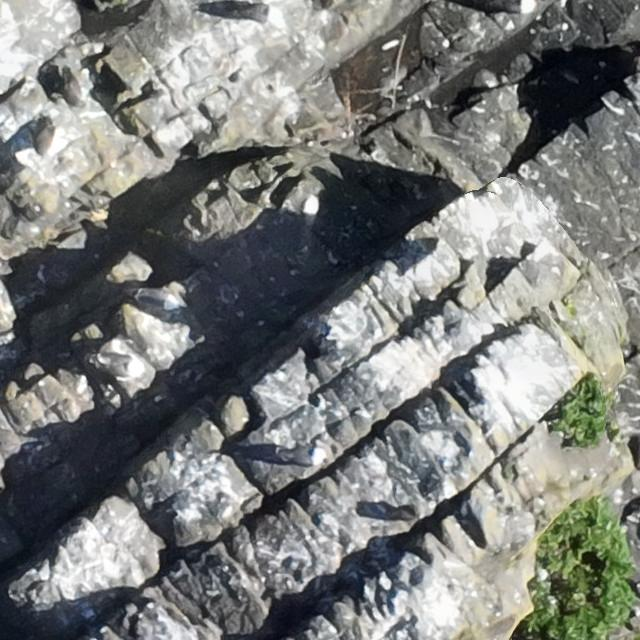umineko: (98, 353, 144, 376), (134, 290, 186, 310), (277, 447, 328, 463), (301, 195, 319, 238)
